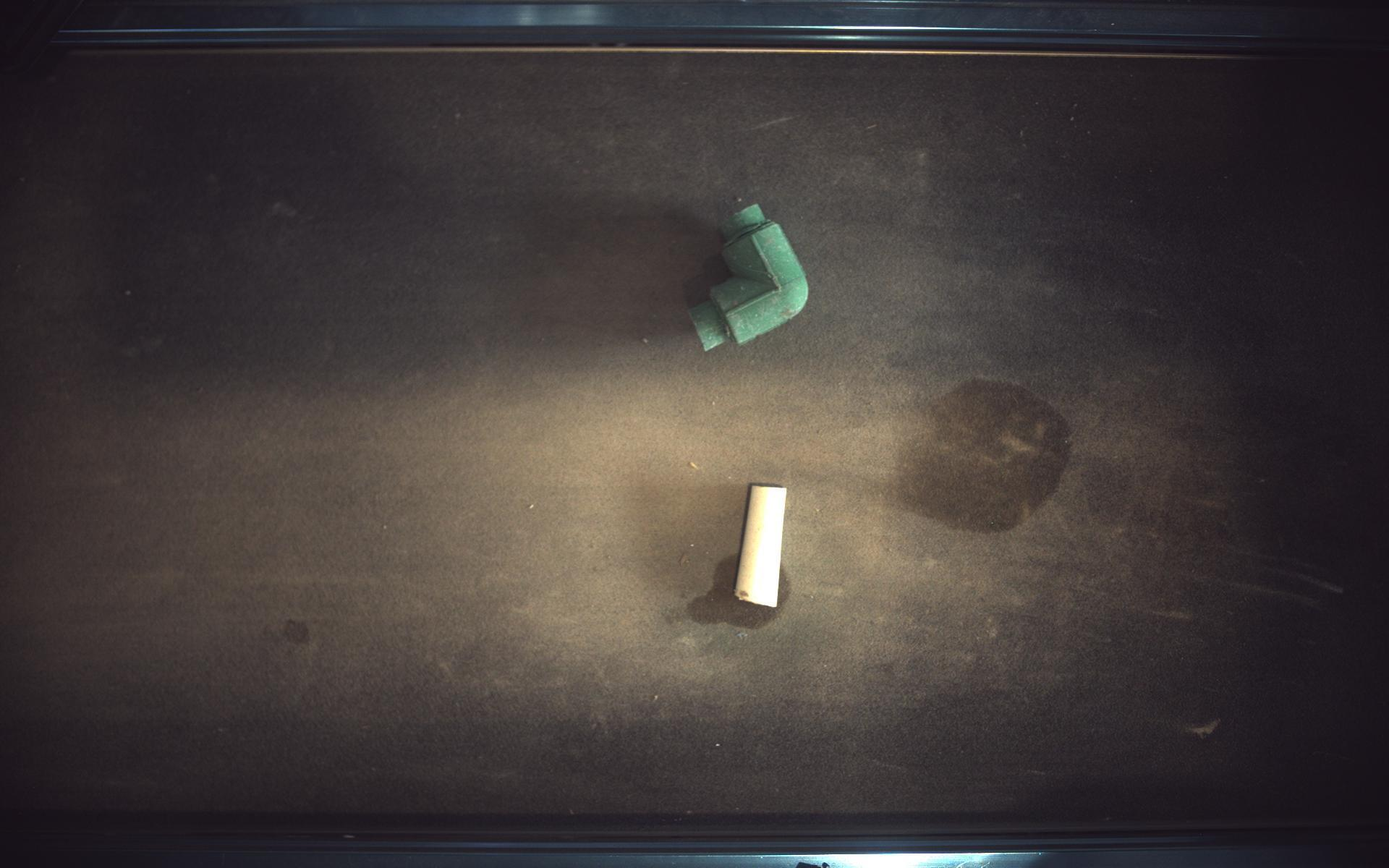pipes: (690, 203, 810, 350), (736, 484, 789, 608)
